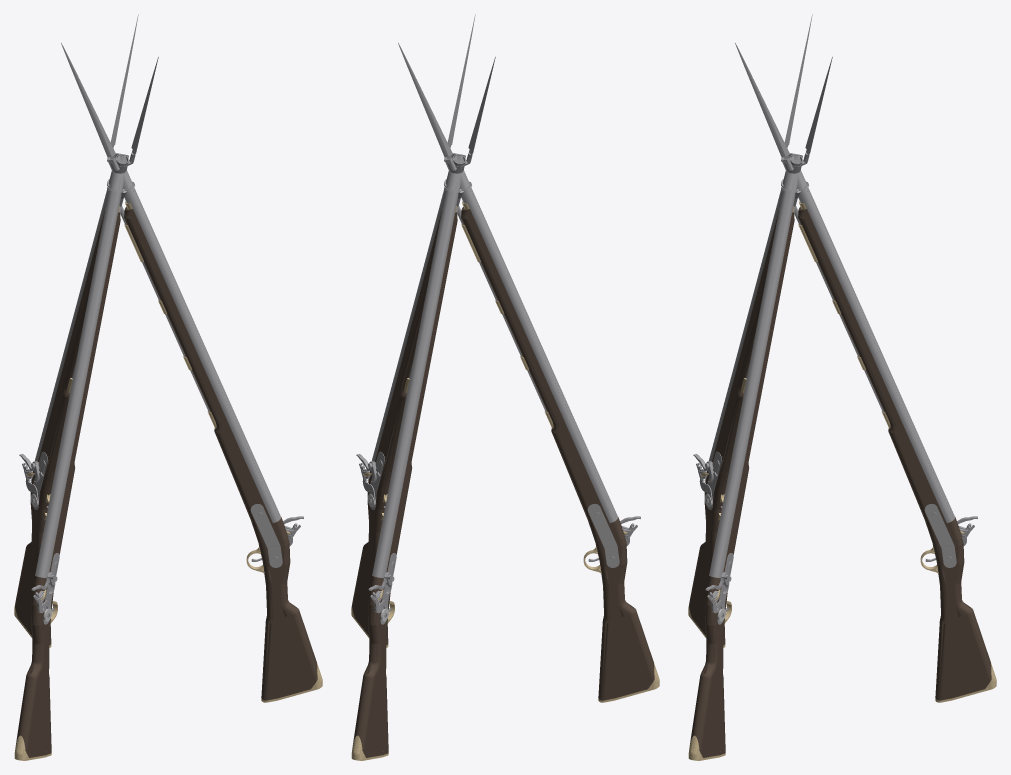
The model's file is stacked-arms.glb.
3 views of the same model, side by side, from view 1: azimuth 30°, elevation 25°; view 2: azimuth 150°, elevation 25°; view 3: azimuth 270°, elevation 25° (orthographic).
Visible parts, largest first — view 1: stacked-arms; view 2: stacked-arms; view 3: stacked-arms.
Part boxes in pixels (x1,y1,x2,y2): stacked-arms: [14, 14, 322, 760]; stacked-arms: [351, 14, 659, 760]; stacked-arms: [688, 14, 996, 760].
Bounding box in the file's own units: 0.9 × 1.86 × 0.7845.
